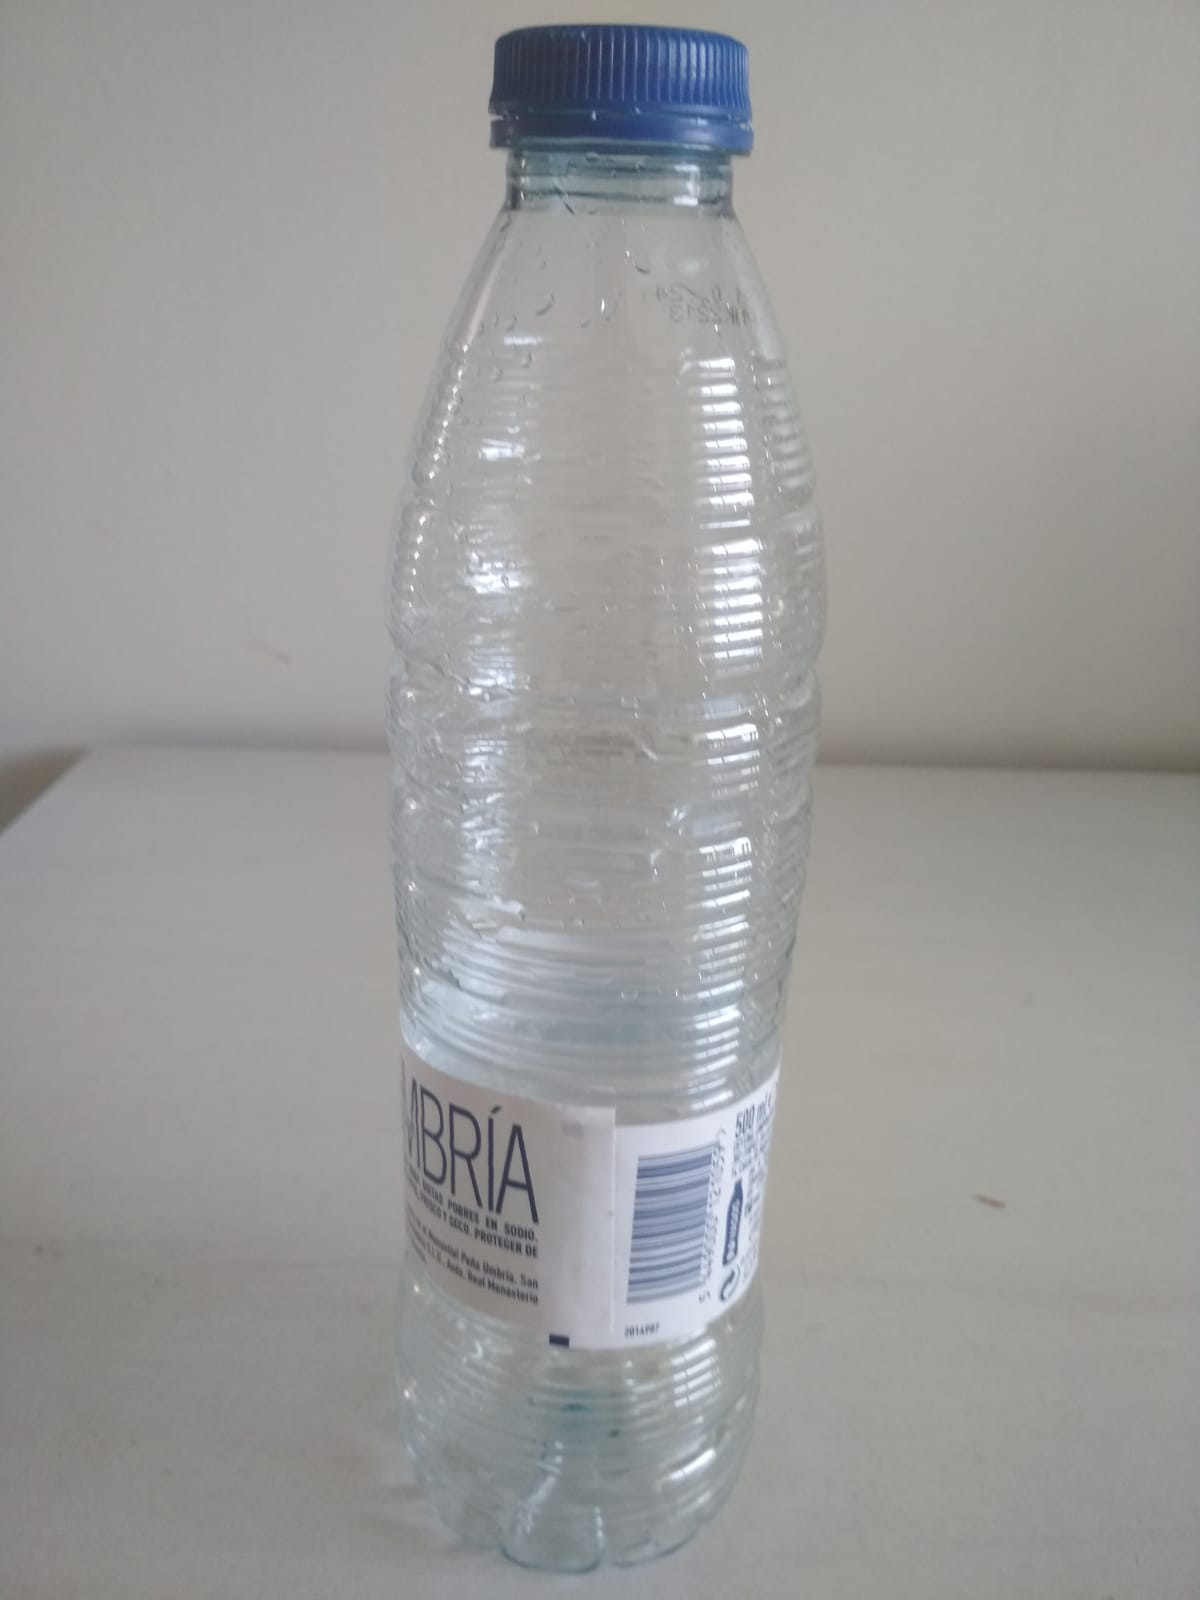botella plastico: (386, 21, 839, 1571)
